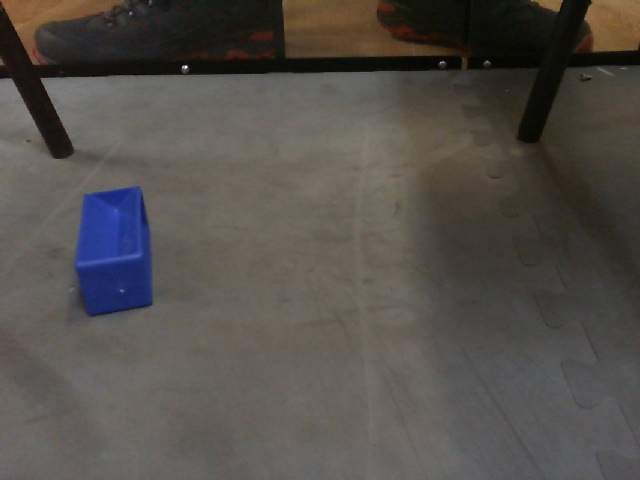BlueSample: (71, 182, 154, 321)
